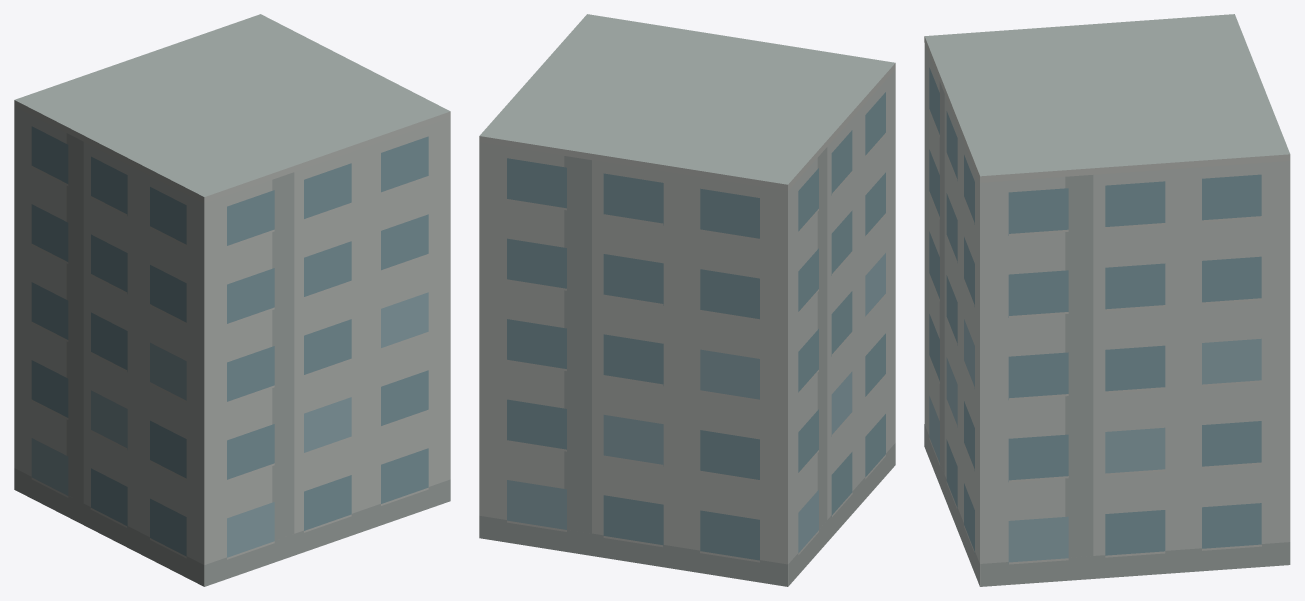
File: residential-67b966cb-b591-4f27-aa3e-c2113debe572.glb
The picture shows the model from 3 angles, left to right: view 1: azimuth 30°, elevation 25°; view 2: azimuth 150°, elevation 25°; view 3: azimuth 270°, elevation 25°; orthographic projection. The views are drawn at different scales.
Parts seen in each view (by area): view 1: residential-67b966cb-b591-4f27-aa3e-c2113debe572.tmp; view 2: residential-67b966cb-b591-4f27-aa3e-c2113debe572.tmp; view 3: residential-67b966cb-b591-4f27-aa3e-c2113debe572.tmp.
Boxes of the visible parts, x1,y1,x2,y2 form: residential-67b966cb-b591-4f27-aa3e-c2113debe572.tmp: (14,14,450,586); residential-67b966cb-b591-4f27-aa3e-c2113debe572.tmp: (479,14,895,586); residential-67b966cb-b591-4f27-aa3e-c2113debe572.tmp: (924,14,1290,586).
Size of the model in its own units: 12.93 by 15.25 by 12.32.
